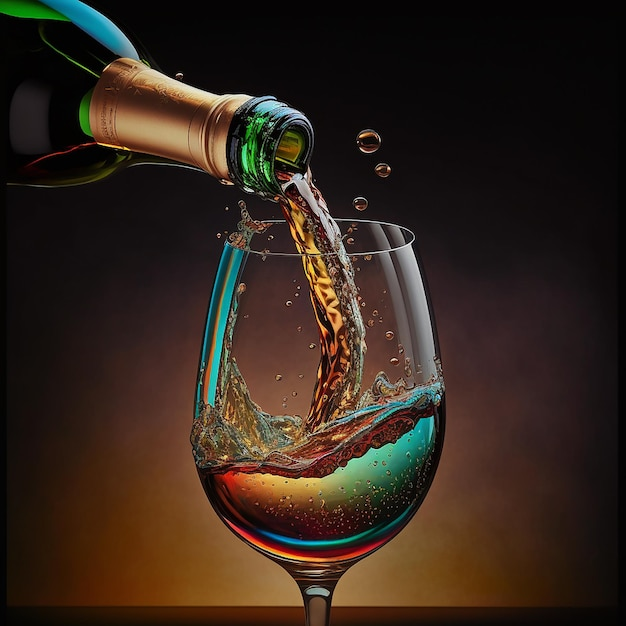alcohol: (196, 217, 451, 622), (2, 0, 319, 193)
